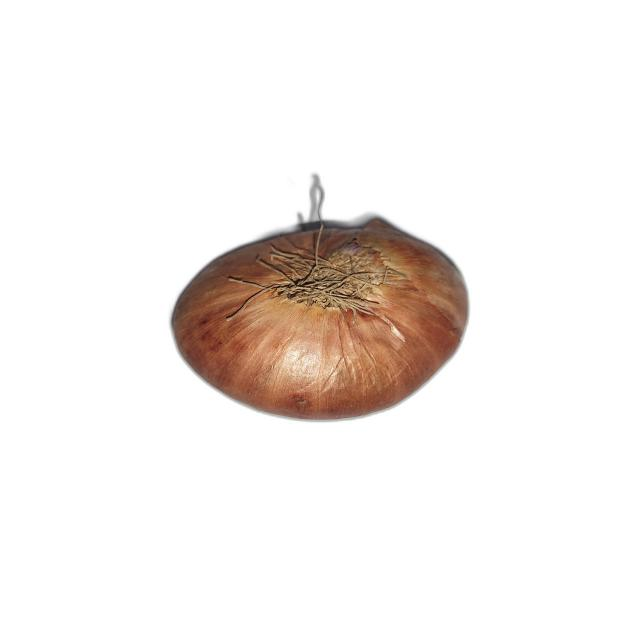onion: (168, 186, 470, 422)
